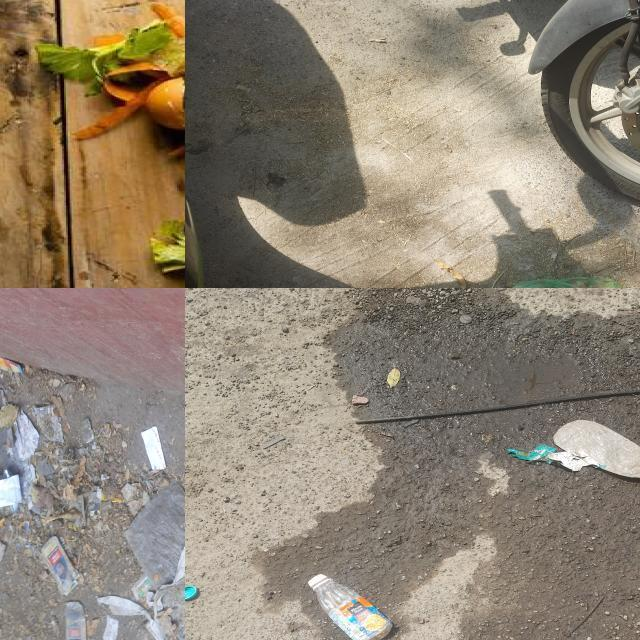Background: (185, 288, 640, 640), (185, 0, 640, 288), (0, 366, 185, 640)
Cig_pack: (42, 537, 79, 595), (65, 601, 86, 640)
Garbage: (35, 3, 185, 155)
Plastic: (185, 585, 199, 601)
Plastic_Bag: (125, 483, 185, 640)
Plastic_bottle: (309, 575, 392, 640), (553, 420, 640, 479)
Plastic_wraper: (507, 445, 603, 471), (0, 474, 21, 508), (131, 576, 153, 603), (0, 356, 23, 374)
